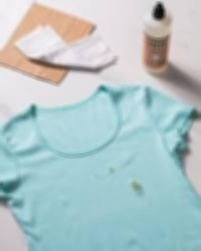oil: (128, 177, 144, 194), (105, 163, 116, 172), (92, 175, 105, 181)
